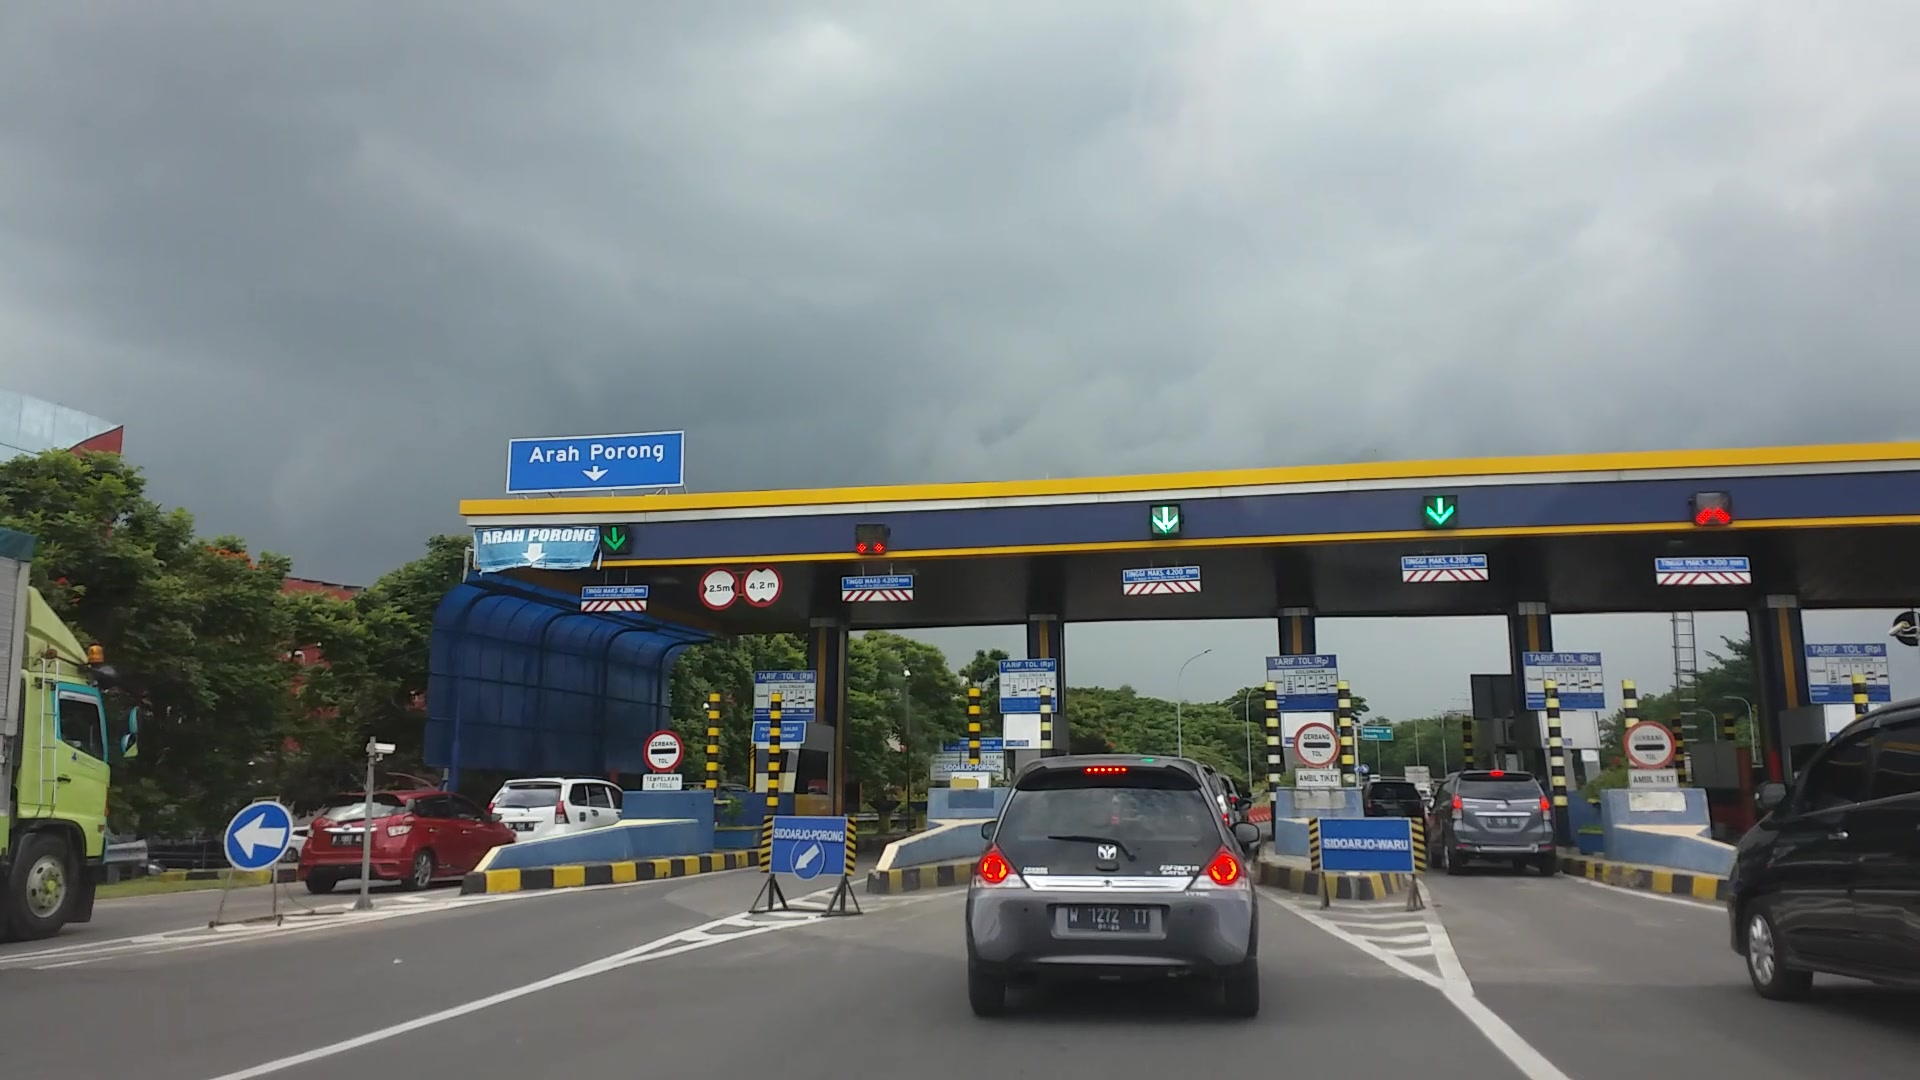plate_positive: (1068, 903, 1149, 932)
